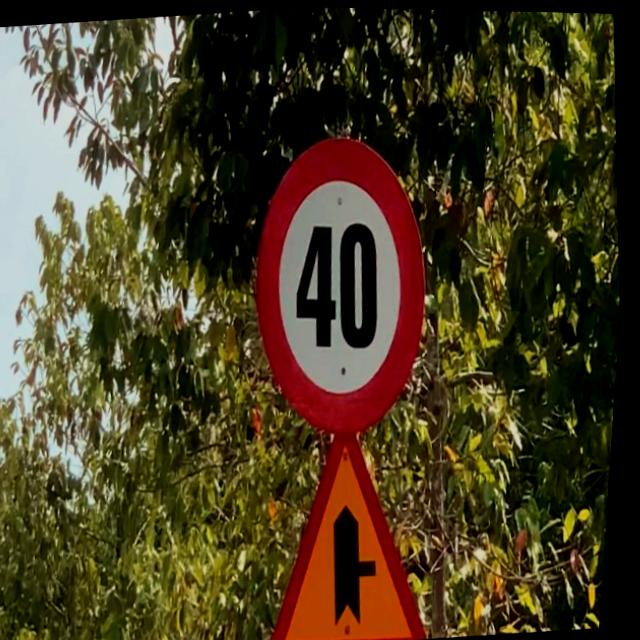Giao nhau voi duong khong uu tien ben phai: (255, 408, 450, 640)
Toc do toi da cho phep: (237, 124, 451, 446)
